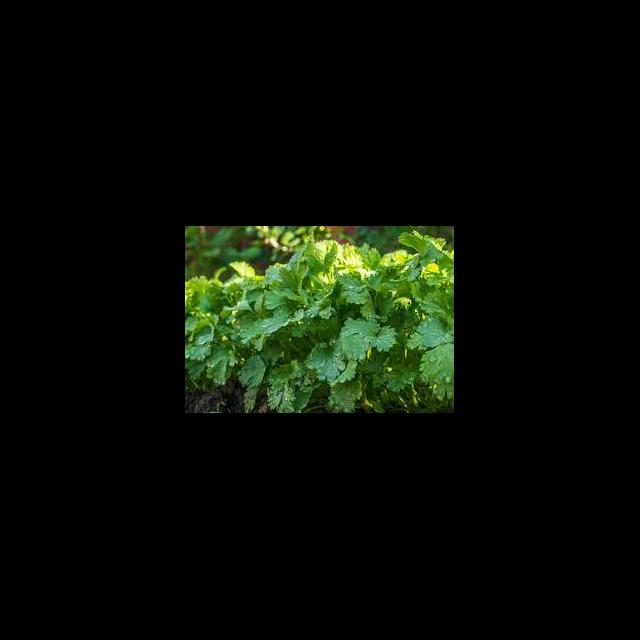cilantro: (186, 226, 454, 414)
